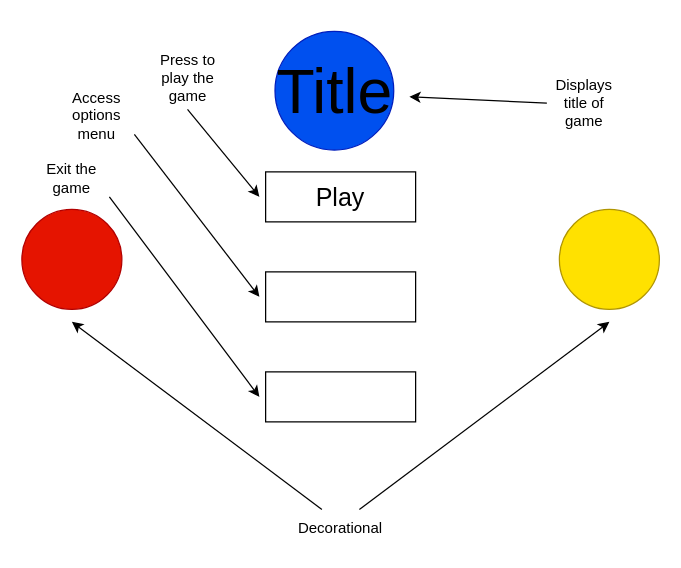
This 681x568 diagram has some shape labels left out. Each missing label, with the centre of its shape:
"Options" belongs at (340,296).
"Quit" belongs at (340,396).
